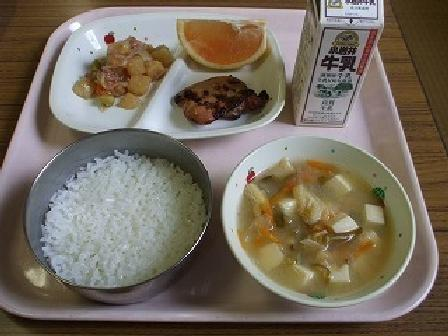Citrus: (164, 5, 271, 75)
Milk: (282, 0, 402, 135)
Rice: (20, 125, 221, 309)
Soups: (233, 138, 411, 301)
cutlet: (178, 65, 265, 131)
vegetable based cooked food: (70, 37, 166, 116)
